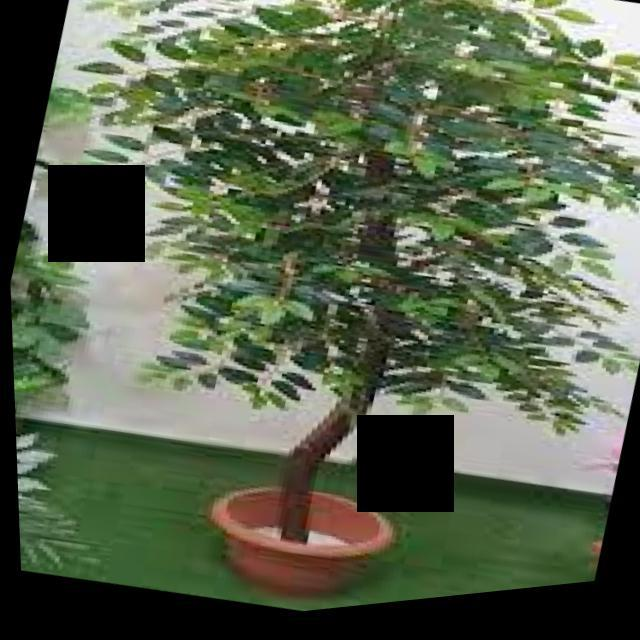Tree: (1, 1, 640, 636)
